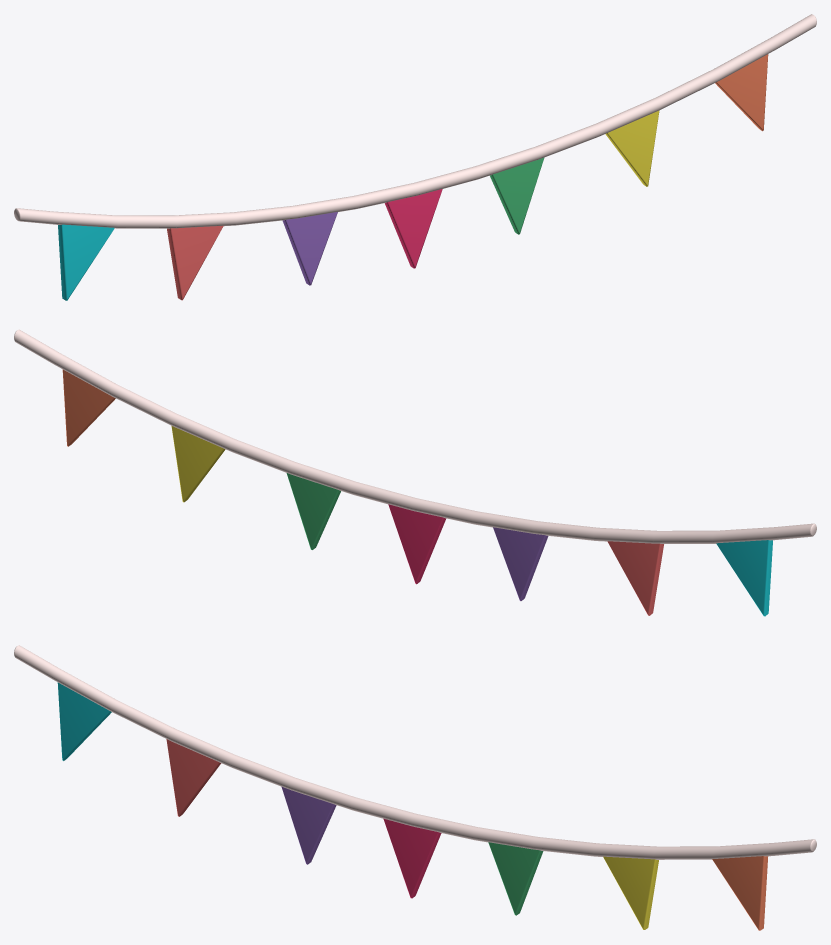
File: Town_14_Flags_1.glb
3 renders of one model, top to bottom at view 1: azimuth 30°, elevation 25°; view 2: azimuth 150°, elevation 25°; view 3: azimuth 330°, elevation 25°, orthographic.
Parts seen in each view (by area): view 1: Town_14_Flags_1; view 2: Town_14_Flags_1; view 3: Town_14_Flags_1.
Boxes of the visible parts, box(x1,y1,x2,y2) form: Town_14_Flags_1: box(14, 14, 816, 300); Town_14_Flags_1: box(14, 329, 816, 616); Town_14_Flags_1: box(14, 645, 816, 930).
Bounding box in the file's own units: 4.5 × 0.8384 × 0.0665.
1 material, 1 textured.
